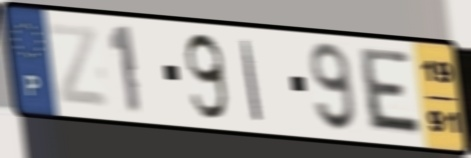1: (107, 23, 145, 117)
9: (307, 39, 360, 136), (181, 31, 230, 122)
E: (358, 45, 426, 141)
I: (238, 37, 265, 125)
Z: (45, 20, 113, 111)
